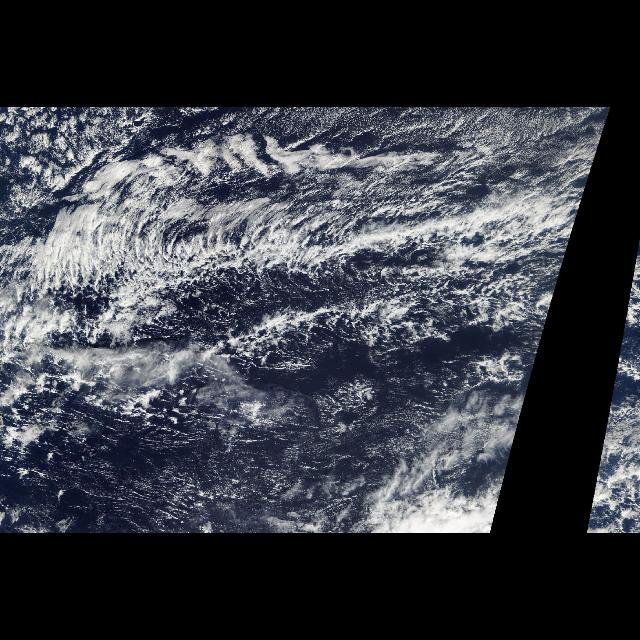Fish: (9, 138, 599, 304)
Gravel: (107, 232, 519, 356)
Sugar: (175, 107, 572, 181), (55, 439, 259, 528)
